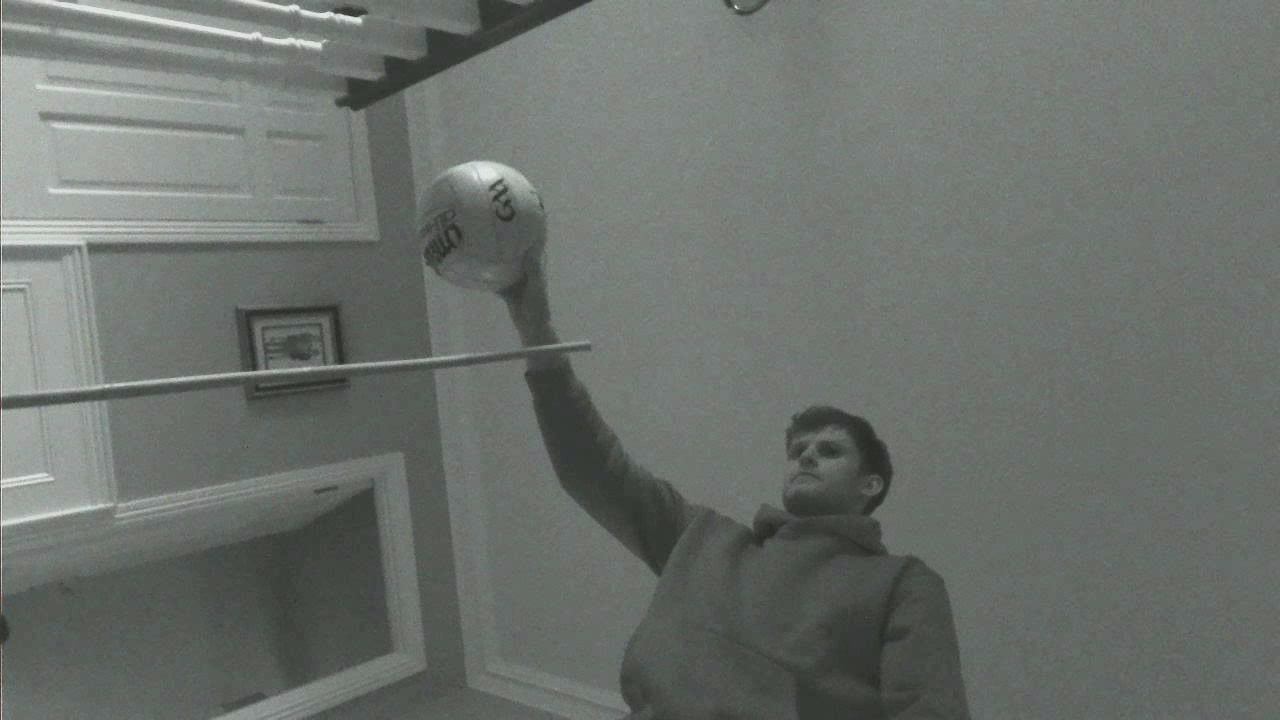Football-Spotter: (419, 161, 544, 289)
